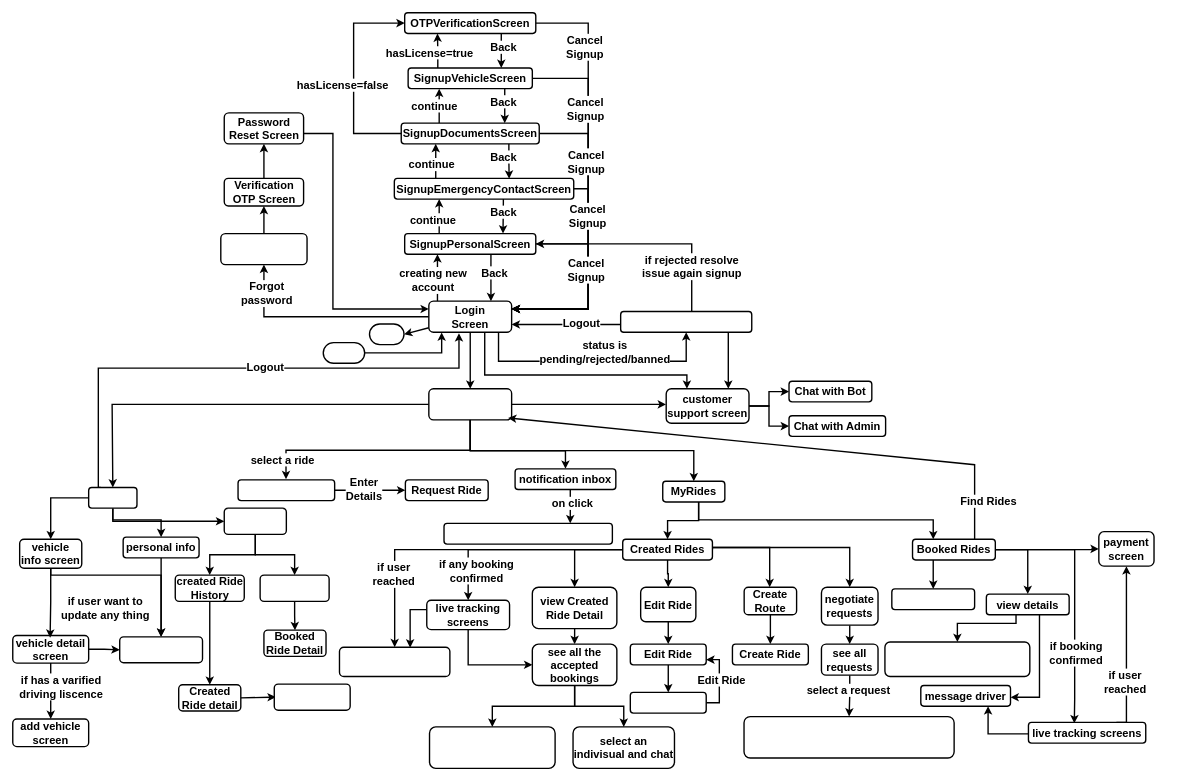
This 1181x780 diagram has some shape labels left out. Each missing label, with the centre of its shape:
bargaining screens (accept counter withdraw): point (957, 659)
Booked Ride History: point (294, 588)
broad cast a message to all or a subset: point (491, 747)
cancel request: point (933, 599)
change request screen: point (161, 649)
Edit Route: point (668, 702)
End: point (386, 334)
Home screen: point (470, 404)
navigate to appropriate screen: point (528, 533)
Password Forgot Screen: point (263, 249)
payment confirmation screen: point (394, 661)
Profile: point (112, 497)
recreate Ride: point (312, 697)
RegisterPendingScreen: point (686, 321)
request respond screen (block, accept, reject, counter, add to blank list): point (848, 737)
Ride History: point (255, 521)
Start: point (343, 353)
View RideDetails: point (286, 490)
